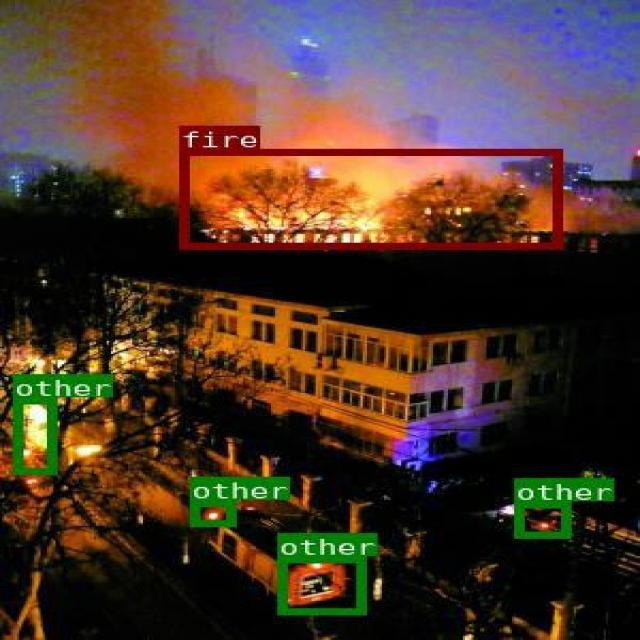fire: (177, 149, 561, 248)
